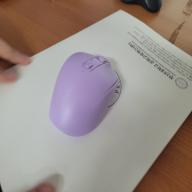mouse: (48, 50, 119, 138)
